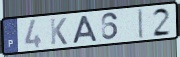2: (150, 7, 172, 37)
4: (24, 19, 43, 50)
6: (101, 11, 120, 42)
A: (71, 15, 99, 45)
I: (137, 7, 145, 41)
K: (49, 17, 69, 46)
